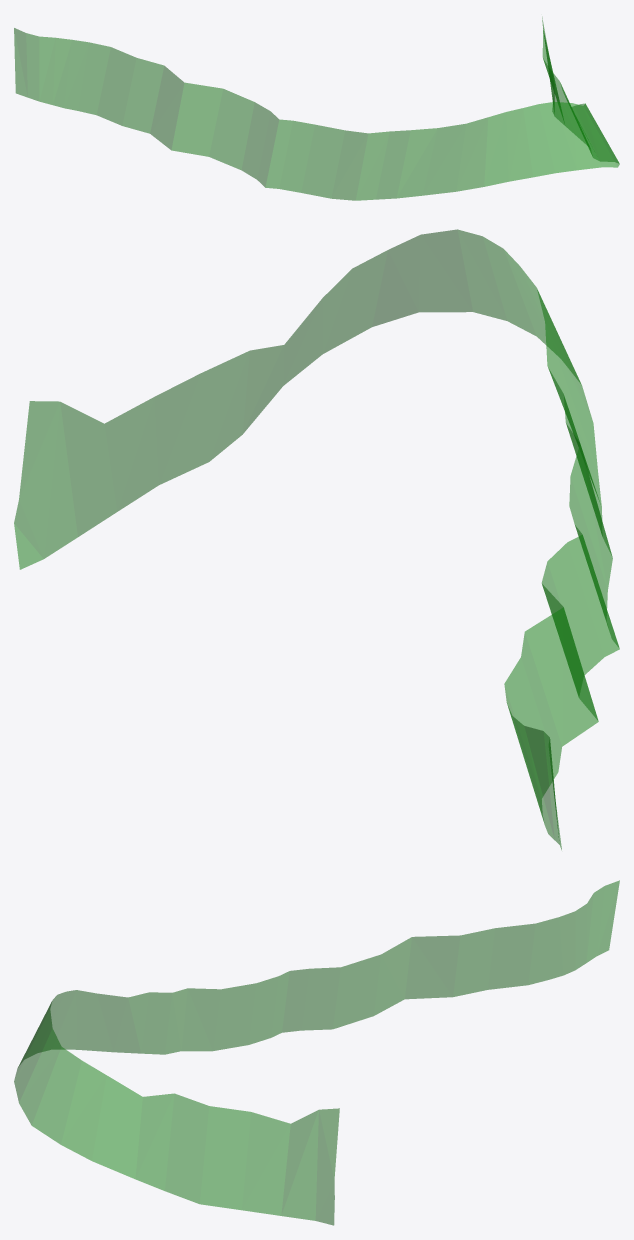
Rendered from wall2.obj.
3 views of the same model, one above another, from view 1: azimuth 30°, elevation 25°; view 2: azimuth 150°, elevation 25°; view 3: azimuth 270°, elevation 25° (orthographic). The views are drawn at different scales.
Size of the model in its own units: 179 by 52.26 by 192.
